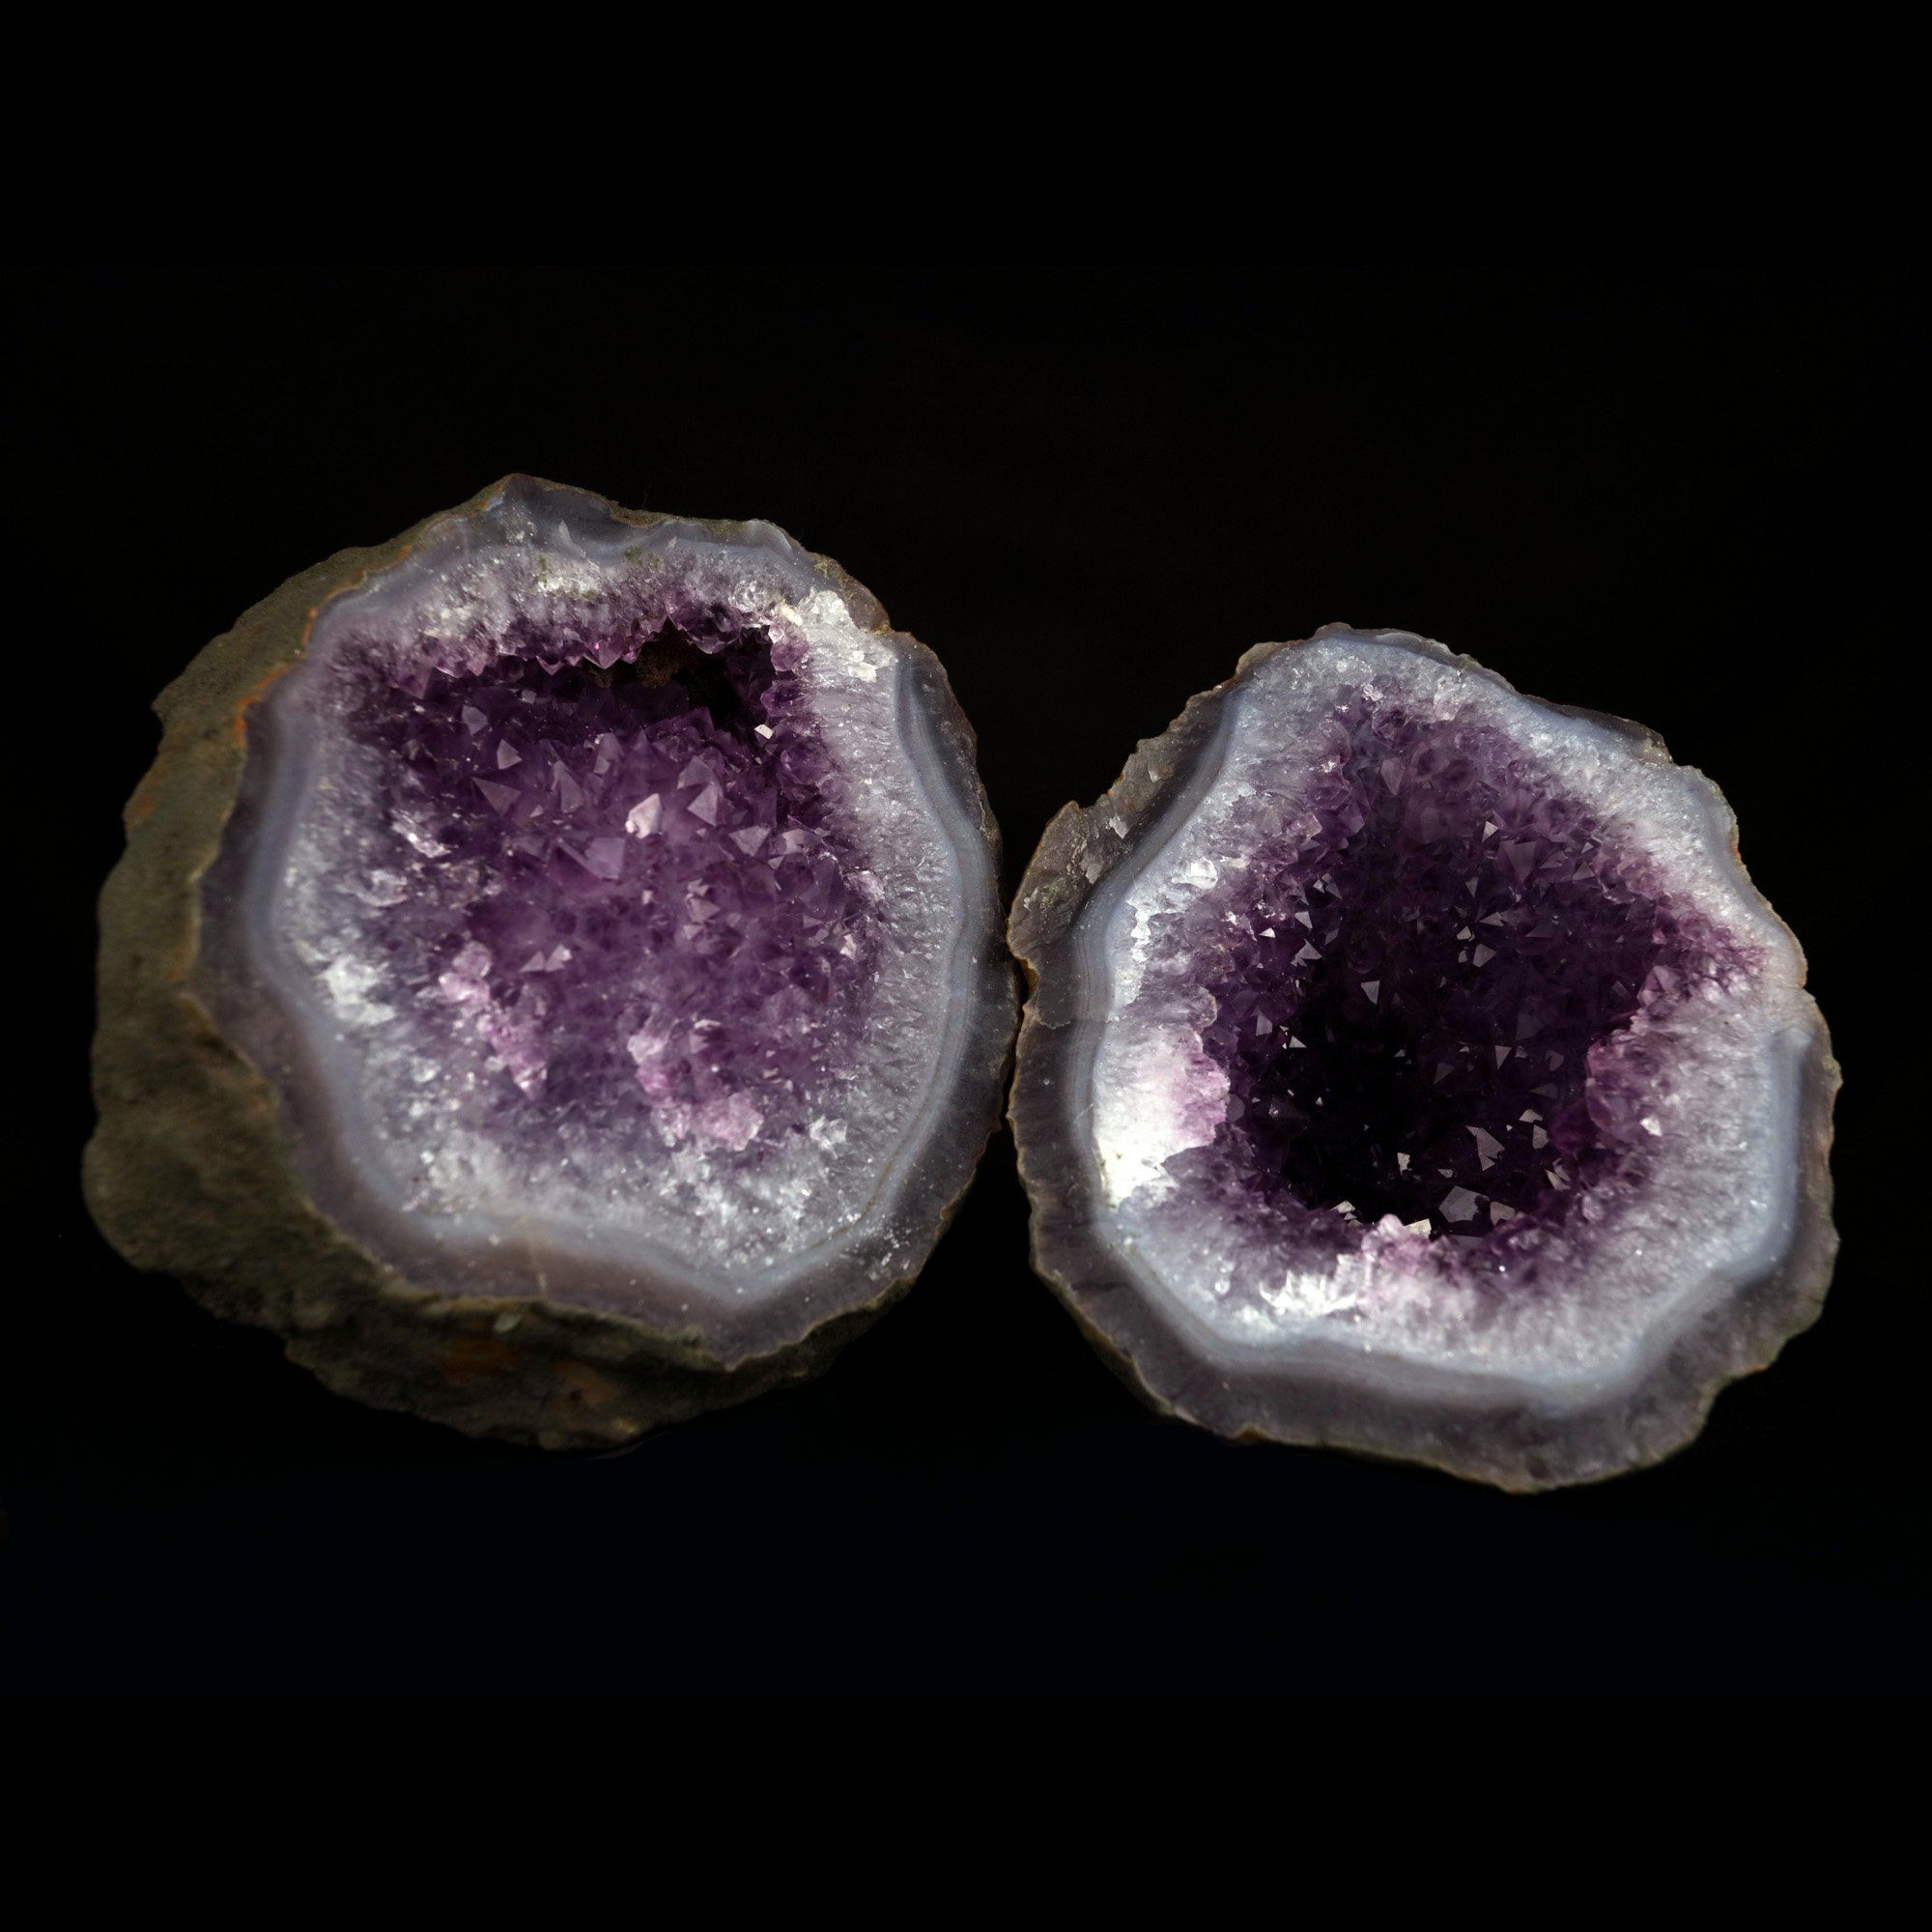Amethyst: (219, 559, 982, 1299), (1047, 674, 1790, 1428)
